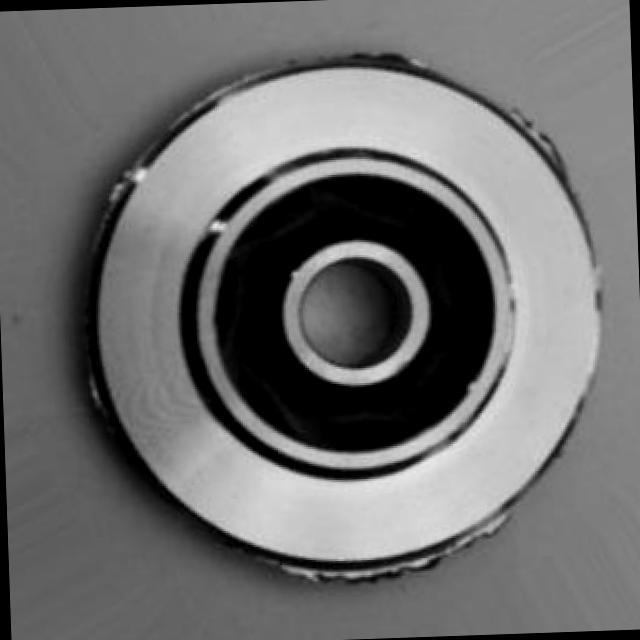Defect: (506, 94, 552, 148)
